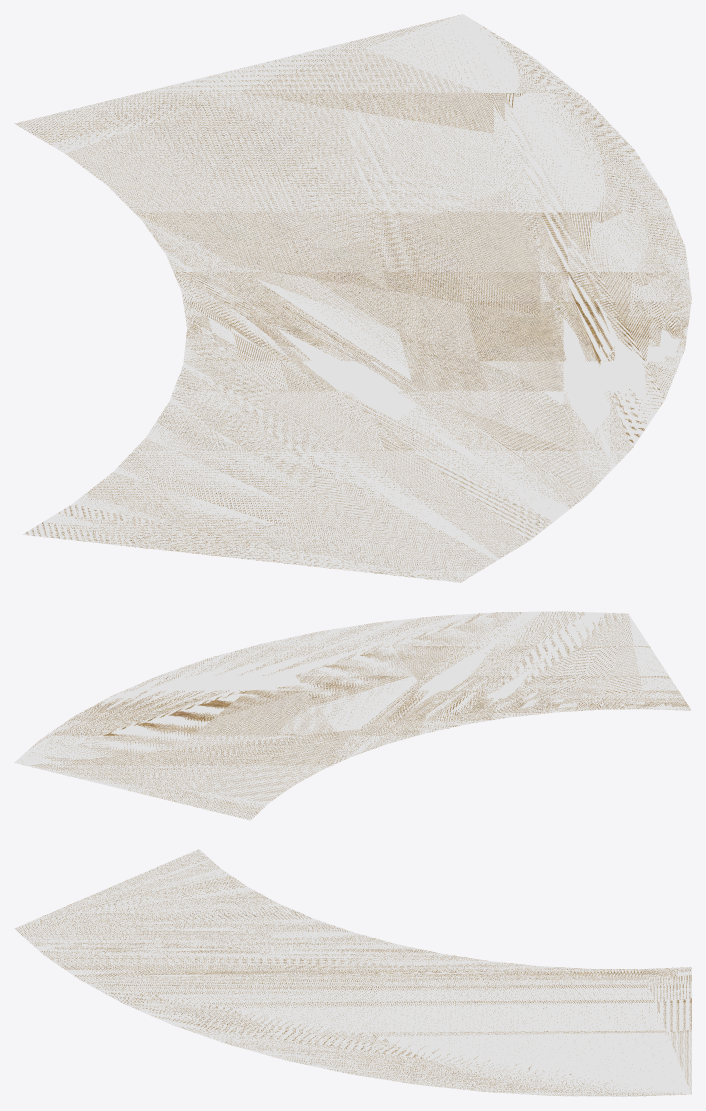
File: evgirişzemin.dae
3 renders of one model, top to bottom at view 1: azimuth 30°, elevation 25°; view 2: azimuth 150°, elevation 25°; view 3: azimuth 270°, elevation 25°, orthographic. The views are drawn at different scales.
Visible parts, largest first — view 1: SketchUp; view 2: SketchUp; view 3: SketchUp.
Part boxes in pixels (left/top/right/bottom): SketchUp: left=14, top=14, right=691, bottom=582; SketchUp: left=14, top=611, right=691, bottom=820; SketchUp: left=14, top=849, right=691, bottom=1096.
Bounding box in the file's own units: 359 × 415 × 0.
Materials: 2 (1 with a texture image).
